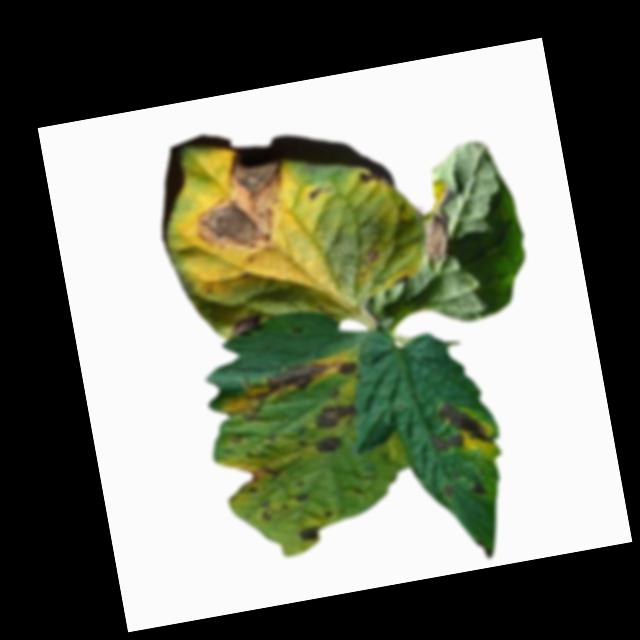Early_blight: (179, 142, 299, 263), (244, 357, 337, 411), (411, 177, 460, 263), (437, 397, 490, 450), (311, 398, 360, 431), (226, 311, 264, 339), (357, 167, 395, 195), (429, 429, 465, 455), (308, 433, 343, 459), (248, 462, 282, 485), (295, 525, 324, 546), (336, 359, 359, 379), (303, 186, 324, 205), (361, 248, 379, 267), (468, 482, 487, 497), (257, 509, 273, 524), (441, 483, 455, 500)
